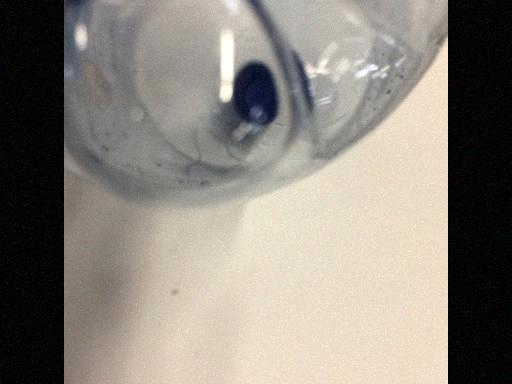cardboard: (0, 4, 446, 383)
